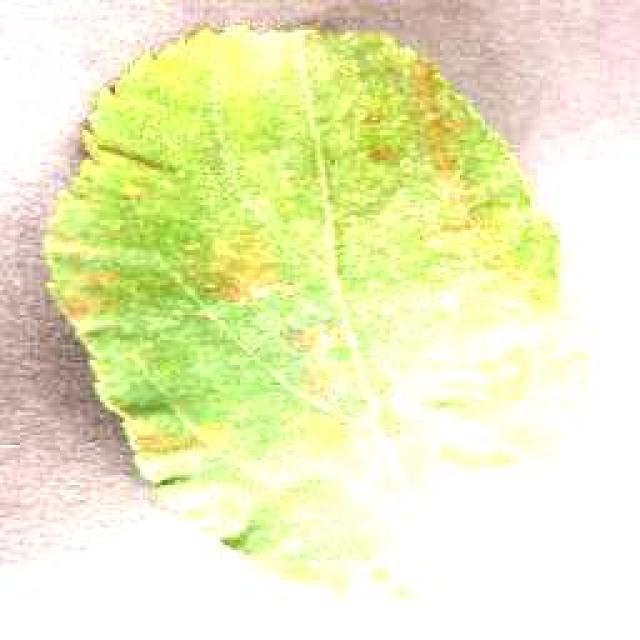apple cedar apple rust: (38, 18, 572, 590)
